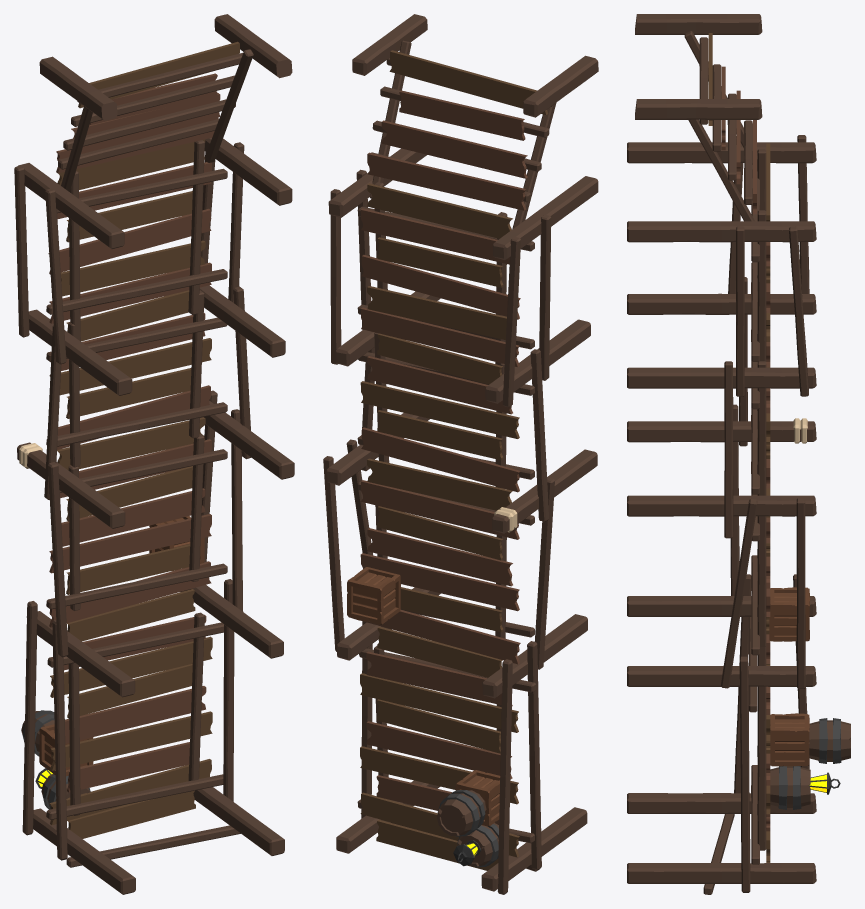
Rendered from Dock.fbx.
3 renders of one model, left to right at view 1: azimuth 30°, elevation 25°; view 2: azimuth 150°, elevation 25°; view 3: azimuth 270°, elevation 25°, orthographic. The views are drawn at different scales.
Visible parts, largest first — view 1: Plane.007, Plane.023, Plane, Plane.015, Plane.022, Plane.018, Plane.006, Plane.014, Plane.026, Plane.016, Plane.024, Plane.003 (+66 smaller); view 2: Plane.013, Plane.027, Plane.011, Plane.028, Plane.014, Plane.003, Plane.007, Plane.006, Plane, Plane.020, Plane.001, Plane.015 (+49 smaller); view 3: Cube, Cube.009, Cube.004, Cube.002, Cube.006, Cube.003, Cube.005, Cube.001, Cube.010, Cube.046, Cube.045, Cube.007 (+31 smaller).
Boxes of the visible parts, x1=… form: Plane.007: x1=57, y1=417, x2=205, y2=470; Plane.023: x1=50, y1=711, x2=212, y2=770; Plane: x1=61, y1=240, x2=205, y2=296; Plane.015: x1=49, y1=514, x2=211, y2=573; Plane.022: x1=65, y1=686, x2=206, y2=743; Plane.018: x1=67, y1=589, x2=195, y2=641; Plane.006: x1=48, y1=208, x2=211, y2=274; Plane.014: x1=61, y1=488, x2=205, y2=546; Plane.026: x1=68, y1=790, x2=195, y2=838; Plane.016: x1=66, y1=544, x2=190, y2=594; Plane.024: x1=67, y1=742, x2=189, y2=792; Plane.003: x1=57, y1=139, x2=205, y2=189; Plane.013: x1=361, y1=427, x2=520, y2=492; Plane.027: x1=367, y1=152, x2=526, y2=210; Plane.011: x1=360, y1=381, x2=519, y2=438; Plane.028: x1=381, y1=120, x2=527, y2=178; Plane.014: x1=367, y1=528, x2=512, y2=586; Plane.003: x1=367, y1=183, x2=512, y2=238; Plane.007: x1=367, y1=458, x2=512, y2=510; Plane.006: x1=361, y1=255, x2=520, y2=319; Plane: x1=367, y1=286, x2=506, y2=339; Plane.020: x1=360, y1=673, x2=518, y2=732; Plane.001: x1=361, y1=307, x2=519, y2=367; Plane.015: x1=360, y1=553, x2=519, y2=611; Cube: x1=627, y1=221, x2=816, y2=242; Cube.009: x1=627, y1=863, x2=816, y2=883; Cube.004: x1=627, y1=495, x2=816, y2=516; Cube.002: x1=627, y1=367, x2=816, y2=388; Cube.006: x1=627, y1=666, x2=816, y2=686; Cube.003: x1=627, y1=293, x2=816, y2=314; Cube.005: x1=627, y1=421, x2=816, y2=442; Cube.001: x1=627, y1=142, x2=816, y2=163; Cube.010: x1=627, y1=793, x2=816, y2=813; Cube.046: x1=635, y1=99, x2=762, y2=119; Cube.045: x1=635, y1=14, x2=762, y2=34; Cube.007: x1=627, y1=596, x2=816, y2=616.
Bounding box in the file's own units: 806 × 3073 × 782.
